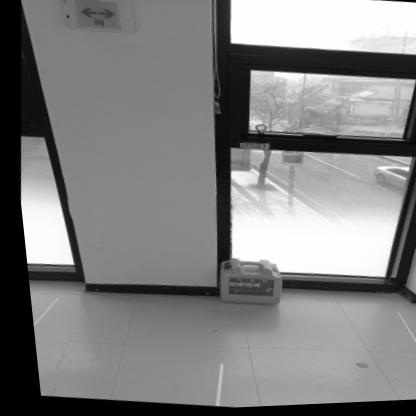DDL: (208, 256, 278, 309)
